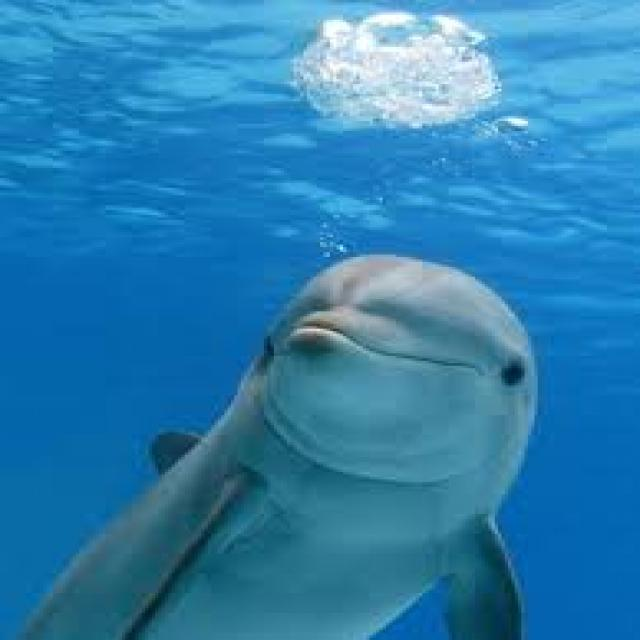dolphin: (3, 237, 541, 640)
